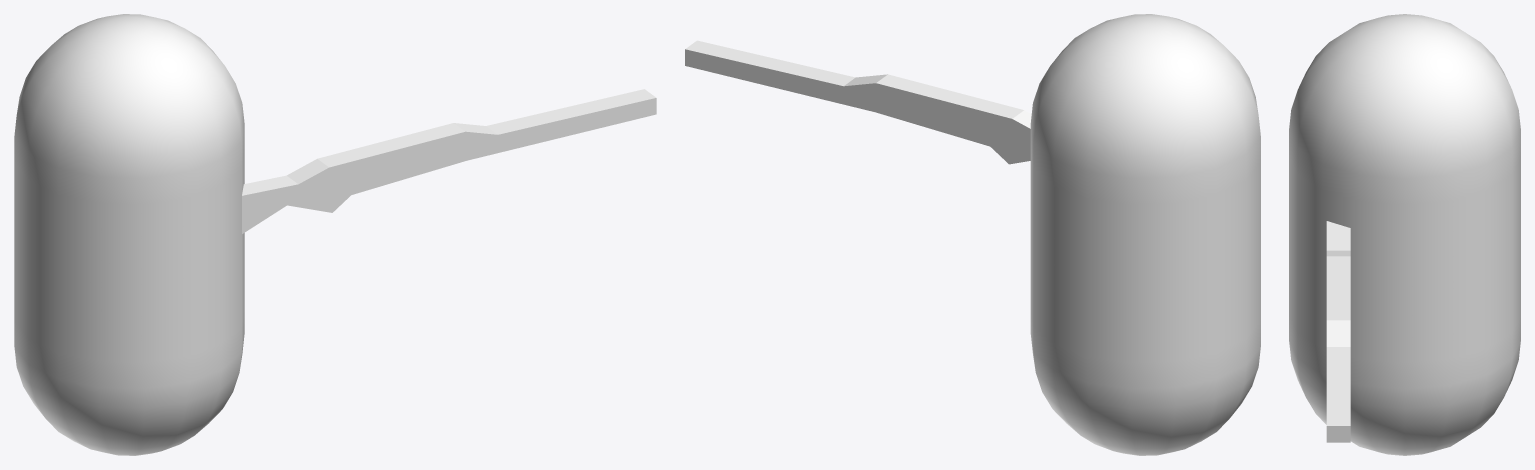
The picture shows the model from 3 angles, left to right: view 1: azimuth 30°, elevation 25°; view 2: azimuth 150°, elevation 25°; view 3: azimuth 270°, elevation 25°; orthographic projection.
Parts seen in each view (by area): view 1: Capsule; view 2: Capsule; view 3: Capsule.
Part boxes in pixels (x1,y1,x2,y2): Capsule: (14, 14, 656, 455); Capsule: (685, 14, 1260, 455); Capsule: (1289, 14, 1520, 455).
Size of the model in its own units: 5.85 by 4 by 2.
Materials: 1 (1 with a texture image).
